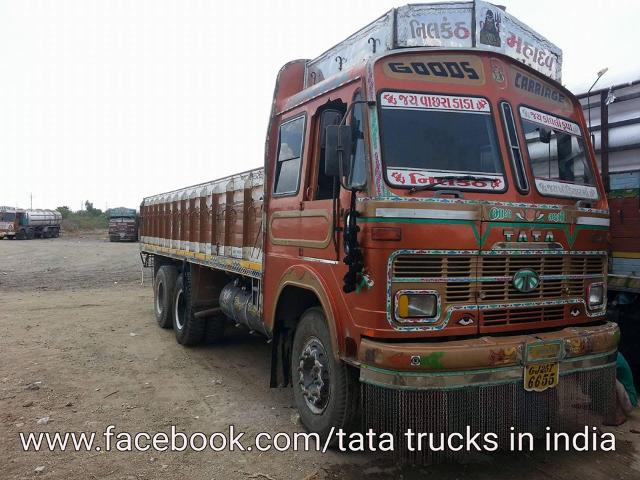truck: (141, 2, 628, 443), (0, 203, 69, 246), (102, 203, 140, 244)
